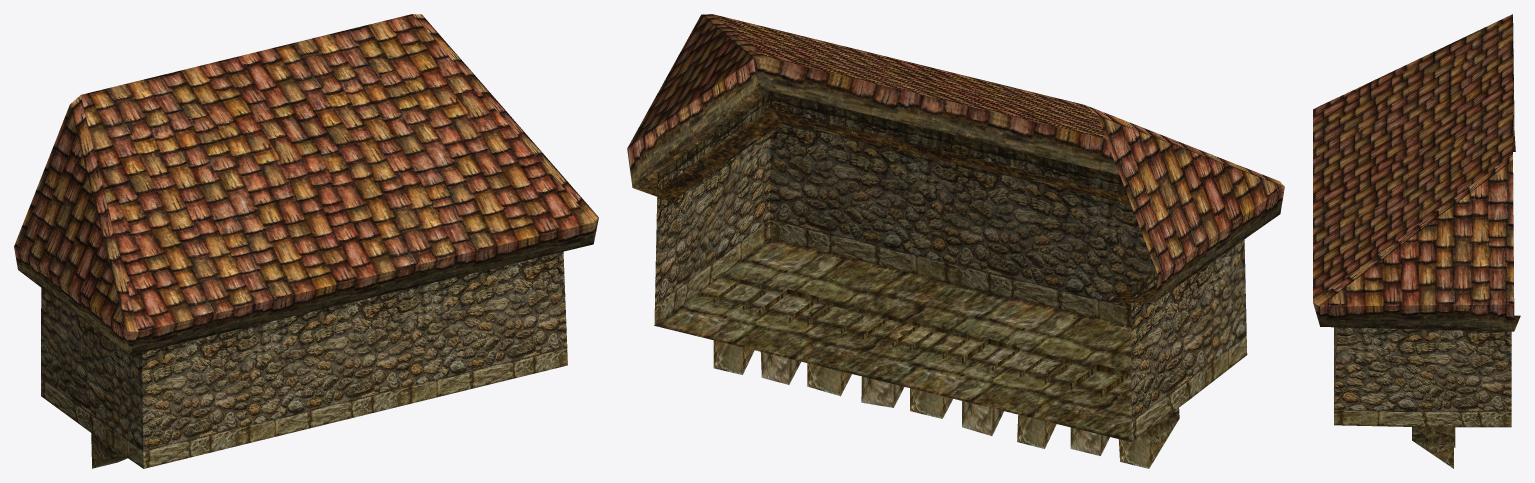
File: hrz04.glb
3 renders of one model, left to right at view 1: azimuth 30°, elevation 25°; view 2: azimuth 150°, elevation 25°; view 3: azimuth 270°, elevation 25°, orthographic. The views are drawn at different scales.
Visible parts, largest first — view 1: hrz04-col; view 2: hrz04-col; view 3: hrz04-col.
Boxes of the visible parts, x1,y1,x2,y2 form: hrz04-col: (14,14,598,468); hrz04-col: (627,14,1284,468); hrz04-col: (1313,14,1520,468).
Size of the model in its own units: 11.32 by 7.97 by 4.98.
Materials: 4 (4 with a texture image).
